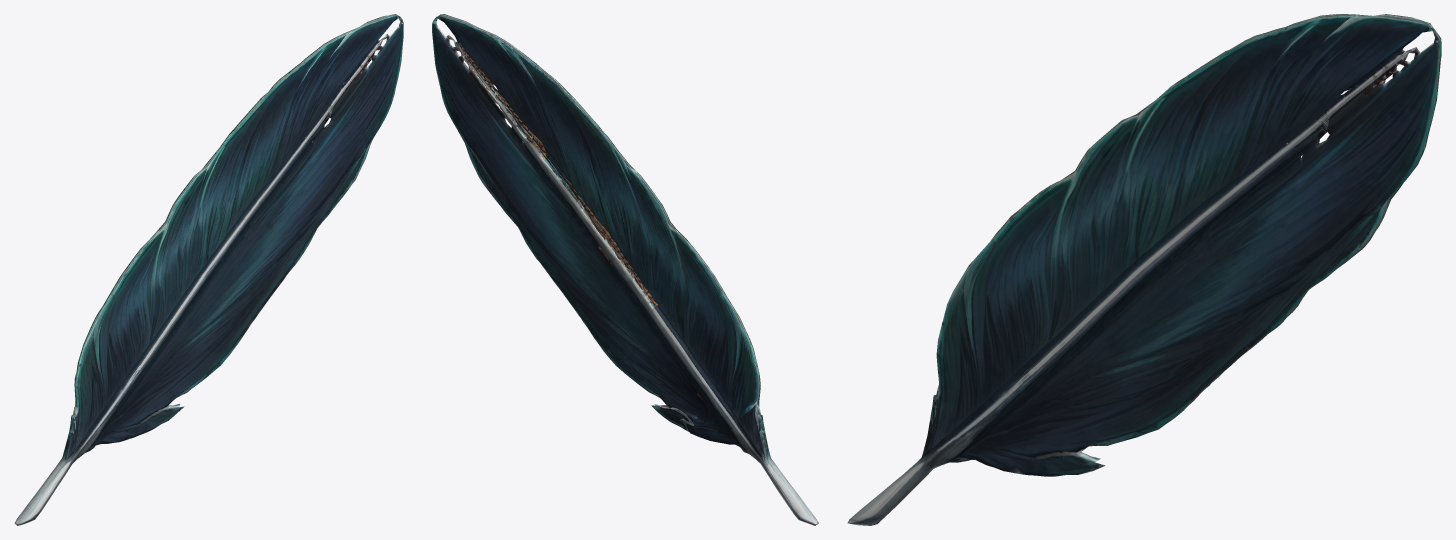
The model's file is Feather_Diag1.fbx.
3 renders of one model, left to right at view 1: azimuth 30°, elevation 25°; view 2: azimuth 150°, elevation 25°; view 3: azimuth 330°, elevation 25°, orthographic. The views are drawn at different scales.
Visible parts, largest first — view 1: texture_mapping; view 2: texture_mapping; view 3: texture_mapping.
Boxes of the visible parts, box(x1,y1,x2,y2) form: texture_mapping: box(14, 14, 403, 525); texture_mapping: box(432, 14, 818, 525); texture_mapping: box(847, 14, 1441, 525).
Size of the model in its own units: 0.9691 by 0.036 by 1.
Materials: 1 (1 with a texture image).
